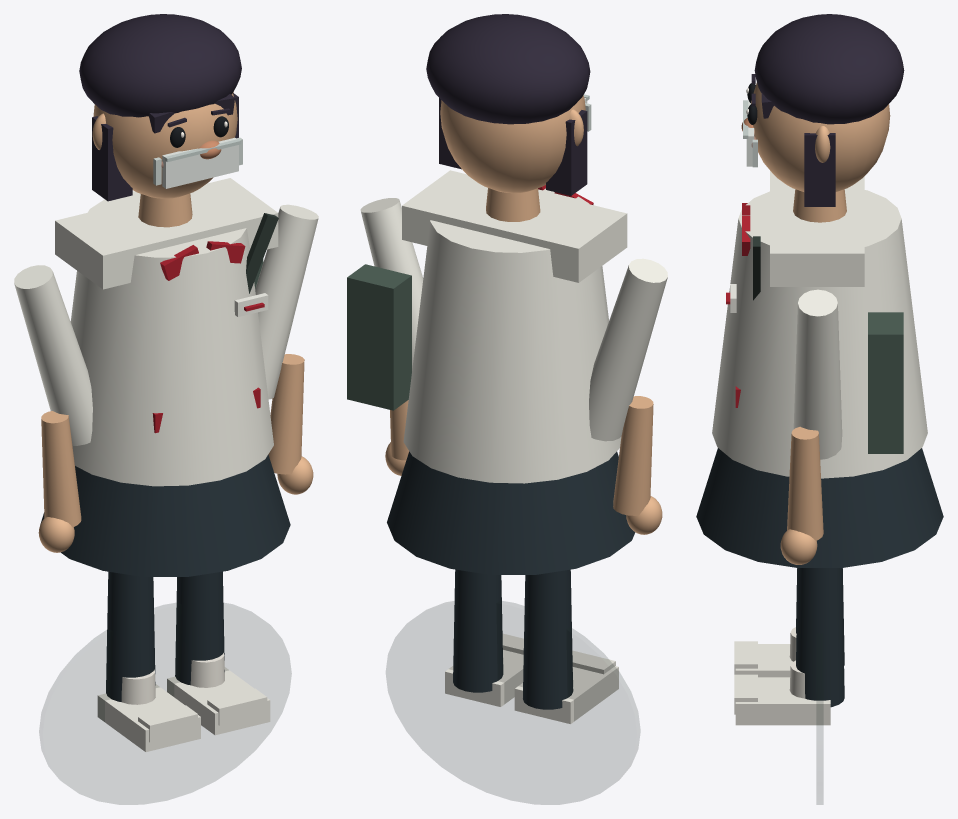
The model's file is player_female_white_mask.glb.
3 renders of one model, left to right at view 1: azimuth 30°, elevation 25°; view 2: azimuth 150°, elevation 25°; view 3: azimuth 270°, elevation 25°, orthographic. The views are drawn at different scales.
Parts seen in each view (by area): view 1: torso, contact_shadow, skirt, hair_cap, shoulder_line, upper_arm_-0.235, upper_arm_0.235, head, leg_-0.075, leg_0.075, forearm_-0.235, forearm_0.235 (+13 smaller); view 2: torso, contact_shadow, skirt, hair_cap, shoulder_line, shoulder_bag, upper_arm_-0.235, head, leg_-0.075, leg_0.075, forearm_-0.235, upper_arm_0.235 (+7 smaller); view 3: torso, skirt, hair_cap, shoulder_line, upper_arm_0.235, head, leg_0.075, shoulder_bag, forearm_0.235, shoe_0.075, side_hair_0.115, shoe_-0.075 (+7 smaller).
Boxes of the visible parts, left/top/right/bottom form: torso: left=70, top=191, right=273, bottom=486; contact_shadow: left=39, top=603, right=291, bottom=804; skirt: left=40, top=454, right=290, bottom=576; hair_cap: left=79, top=14, right=241, bottom=117; shoulder_line: left=55, top=178, right=278, bottom=289; upper_arm_-0.235: left=14, top=265, right=92, bottom=445; upper_arm_0.235: left=255, top=204, right=318, bottom=399; head: left=93, top=93, right=237, bottom=198; leg_-0.075: left=106, top=571, right=155, bottom=701; leg_0.075: left=175, top=571, right=224, bottom=685; forearm_-0.235: left=41, top=411, right=81, bottom=527; forearm_0.235: left=268, top=354, right=304, bottom=474; torso: left=403, top=188, right=621, bottom=483; contact_shadow: left=386, top=601, right=639, bottom=804; skirt: left=387, top=451, right=635, bottom=574; hair_cap: left=426, top=14, right=590, bottom=124; shoulder_line: left=402, top=170, right=627, bottom=282; shoulder_bag: left=347, top=264, right=411, bottom=410; upper_arm_-0.235: left=589, top=258, right=667, bottom=441; head: left=440, top=95, right=585, bottom=193; leg_-0.075: left=523, top=569, right=573, bottom=709; leg_0.075: left=453, top=569, right=503, bottom=692; forearm_-0.235: left=613, top=396, right=653, bottom=515; upper_arm_0.235: left=360, top=198, right=423, bottom=370; torso: left=712, top=190, right=927, bottom=478; skirt: left=696, top=448, right=943, bottom=567; hair_cap: left=754, top=14, right=904, bottom=124; shoulder_line: left=770, top=171, right=864, bottom=286; upper_arm_0.235: left=793, top=289, right=842, bottom=459; head: left=751, top=82, right=890, bottom=191; leg_0.075: left=796, top=568, right=844, bottom=707; shoulder_bag: left=868, top=312, right=903, bottom=453; forearm_0.235: left=787, top=426, right=823, bottom=540; shoe_0.075: left=735, top=677, right=830, bottom=725; side_hair_0.115: left=804, top=133, right=835, bottom=206; shoe_-0.075: left=735, top=644, right=792, bottom=677.
Size of the model in its own units: 0.636 by 1.56 by 0.4606.
